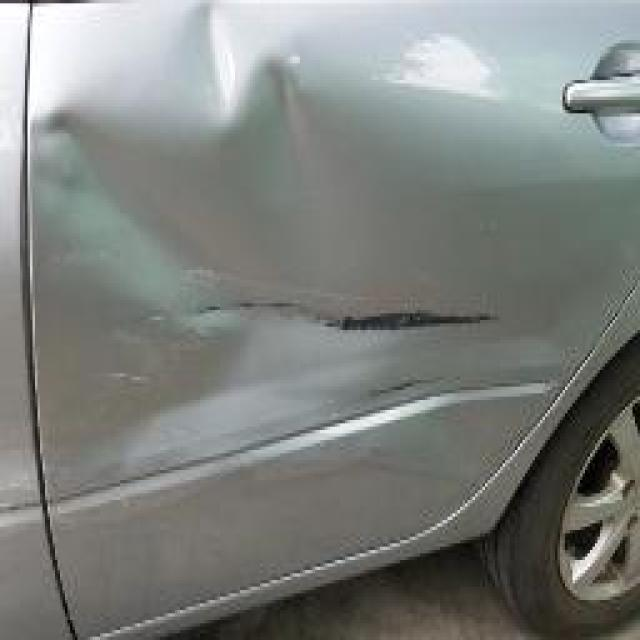Door: (30, 0, 515, 567)
